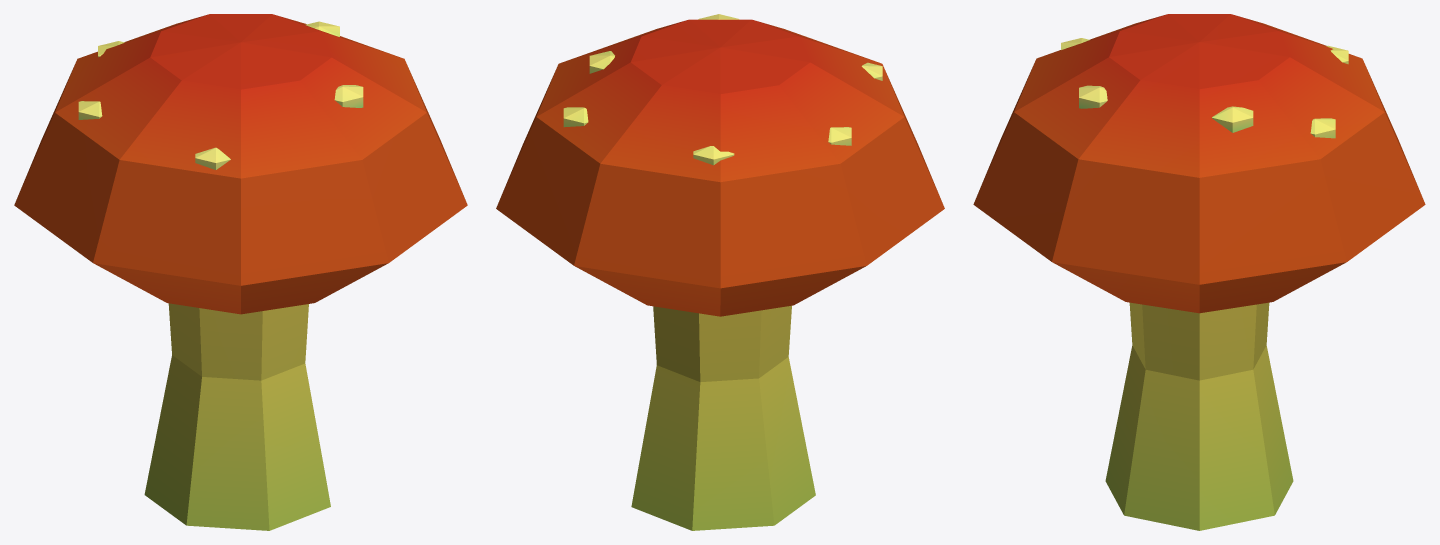
The model's file is Mushroom_Red_01.fbx.
3 views of the same model, side by side, from view 1: azimuth 30°, elevation 25°; view 2: azimuth 150°, elevation 25°; view 3: azimuth 270°, elevation 25° (orthographic).
Visible parts, largest first — view 1: Mushroom_Red_01; view 2: Mushroom_Red_01; view 3: Mushroom_Red_01.
Boxes of the visible parts, box(x1,y1,x2,y2) form: Mushroom_Red_01: box(14, 14, 467, 530); Mushroom_Red_01: box(496, 14, 944, 530); Mushroom_Red_01: box(973, 14, 1425, 530).
Bounding box in the file's own units: 0.2328 × 0.2584 × 0.2364.
